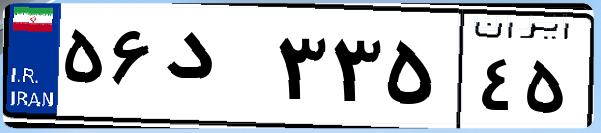3: (270, 28, 330, 110), (330, 28, 385, 110)
4: (475, 38, 525, 113)
5: (385, 28, 445, 110), (57, 26, 110, 100), (525, 38, 570, 115)
6: (110, 28, 158, 98)
د: (158, 20, 270, 120)
